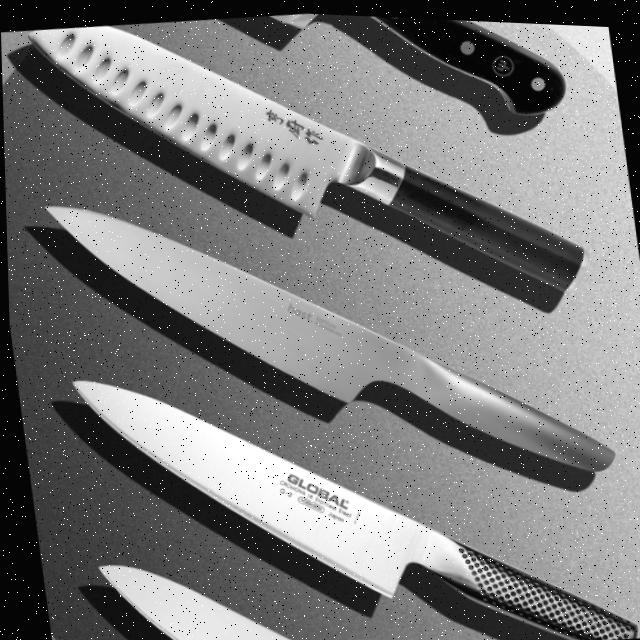knife: (34, 145, 623, 525), (21, 1, 595, 348), (59, 320, 639, 640), (257, 9, 571, 144), (87, 537, 336, 640)
